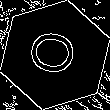O_E: (25, 28, 85, 82)
